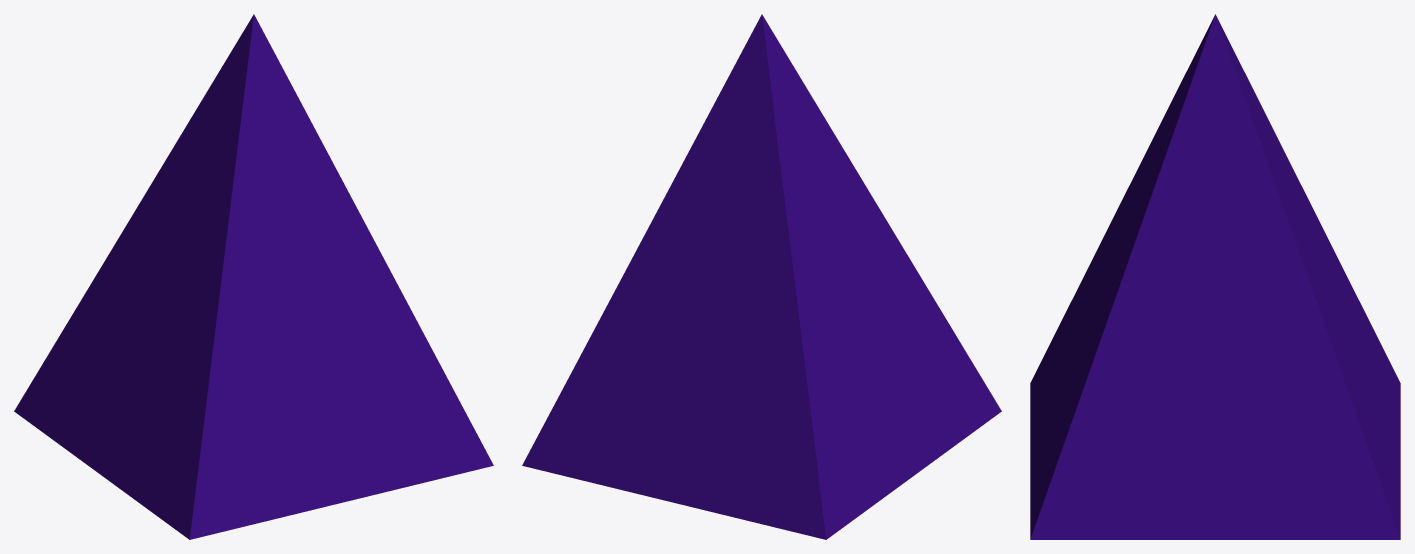
The model's file is zhui.dae.
The picture shows the model from 3 angles, left to right: view 1: azimuth 30°, elevation 25°; view 2: azimuth 150°, elevation 25°; view 3: azimuth 270°, elevation 25°; orthographic projection. The views are drawn at different scales.
Parts seen in each view (by area): view 1: Pyramid001; view 2: Pyramid001; view 3: Pyramid001.
Boxes of the visible parts, bbox=[...] form: Pyramid001: bbox=[14, 14, 493, 539]; Pyramid001: bbox=[522, 14, 1001, 539]; Pyramid001: bbox=[1030, 14, 1400, 539].
Bounding box in the file's own units: 15 × 15 × 20.
